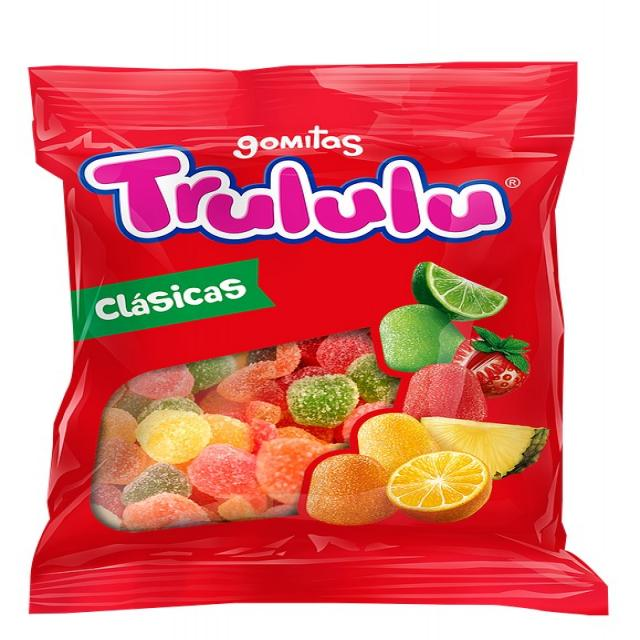Paquete: (23, 62, 614, 612)
